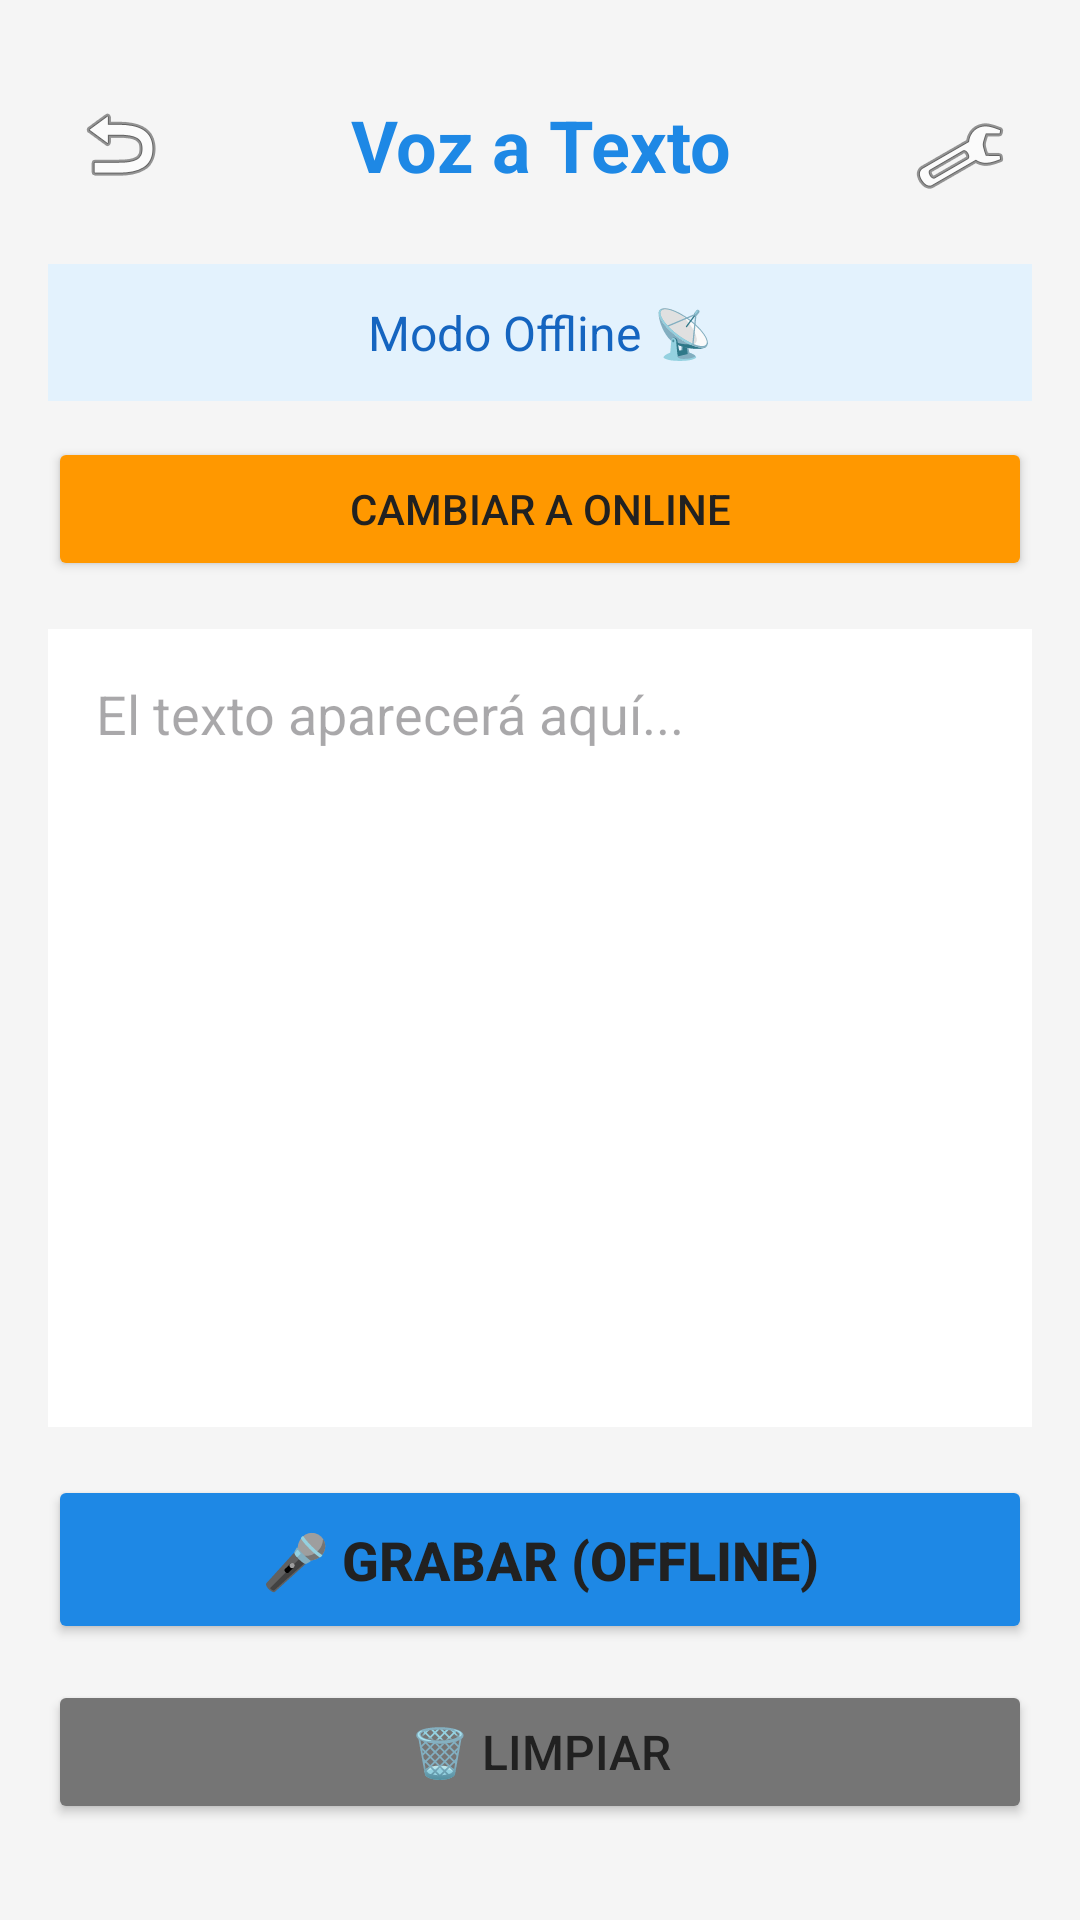

Icons on this 1080px×1920px Android screen, each with the point to tap as (x=x, y=y):
Configuración: (x=960, y=156)
Volver: (x=121, y=144)
